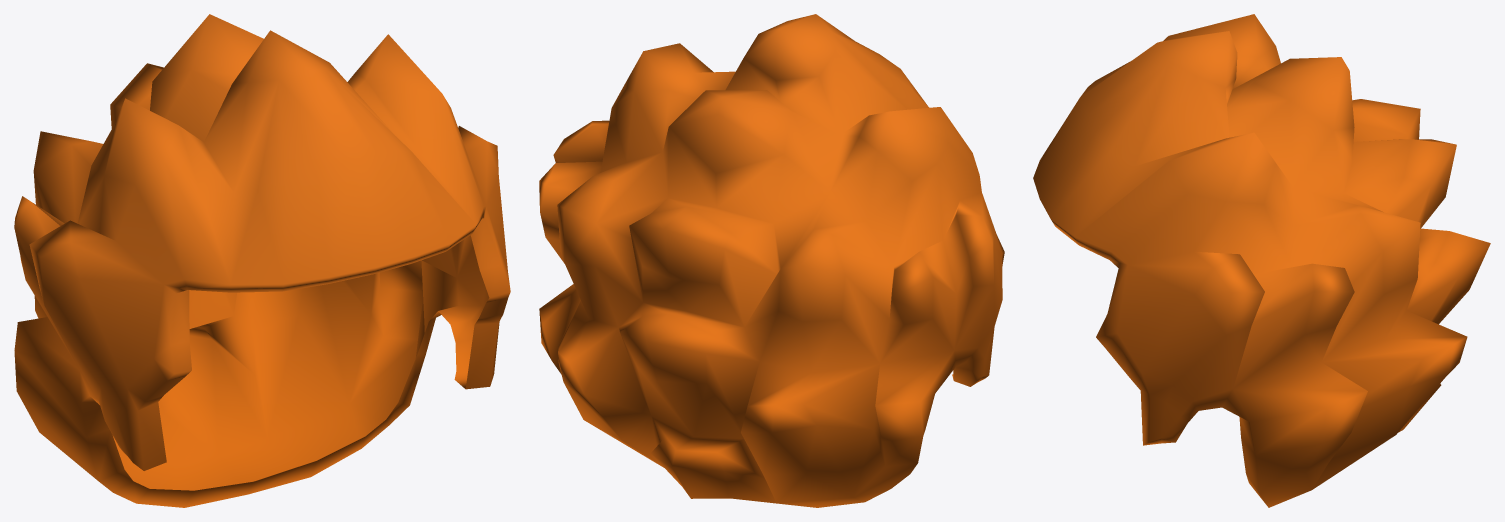
Rendered from Hair_Orange_16.fbx.
3 views of the same model, side by side, from view 1: azimuth 30°, elevation 25°; view 2: azimuth 150°, elevation 25°; view 3: azimuth 270°, elevation 25° (orthographic). The views are drawn at different scales.
Parts seen in each view (by area): view 1: Hair_Orange_16; view 2: Hair_Orange_16; view 3: Hair_Orange_16.
Part boxes in pixels (x1=…): Hair_Orange_16: x1=14, y1=14, x2=510, y2=507; Hair_Orange_16: x1=539, y1=14, x2=1004, y2=507; Hair_Orange_16: x1=1033, y1=14, x2=1490, y2=507.
Bounding box in the file's own units: 62.42 × 62.7 × 58.65.
